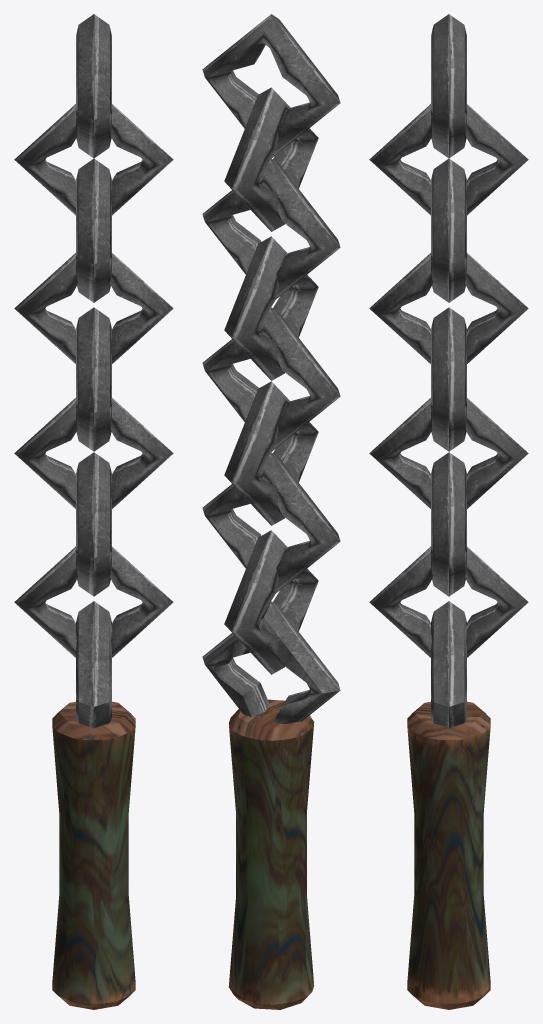
File: Chain&Handle.fbx
The picture shows the model from 3 angles, left to right: view 1: azimuth 90°, elevation 25°; view 2: azimuth 150°, elevation 25°; view 3: azimuth 270°, elevation 25°; orthographic projection.
Parts seen in each view (by area): view 1: Chain, ChainHandle; view 2: Chain, ChainHandle; view 3: Chain, ChainHandle.
Part boxes in pixels (box(x1,y1,x2,y2)): Chain: box(14, 14, 173, 657); ChainHandle: box(52, 601, 135, 1009); Chain: box(202, 14, 340, 674); ChainHandle: box(202, 601, 340, 1009); Chain: box(369, 14, 528, 657); ChainHandle: box(407, 601, 490, 1009).
Bounding box in the file's own units: 150 × 1017 × 150.
